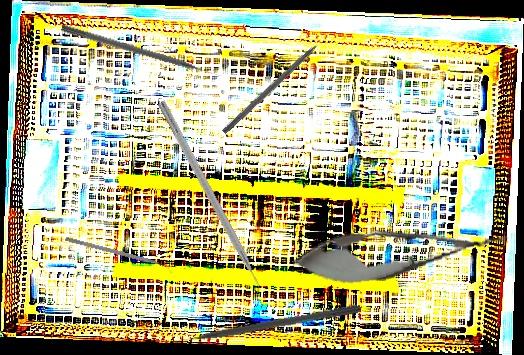Chopper: (147, 100, 269, 306), (63, 236, 175, 276)
Hook Surgical: (221, 32, 332, 136)
Micro Scissor: (290, 212, 511, 292)
Pusher: (60, 23, 222, 82), (167, 302, 362, 347)
